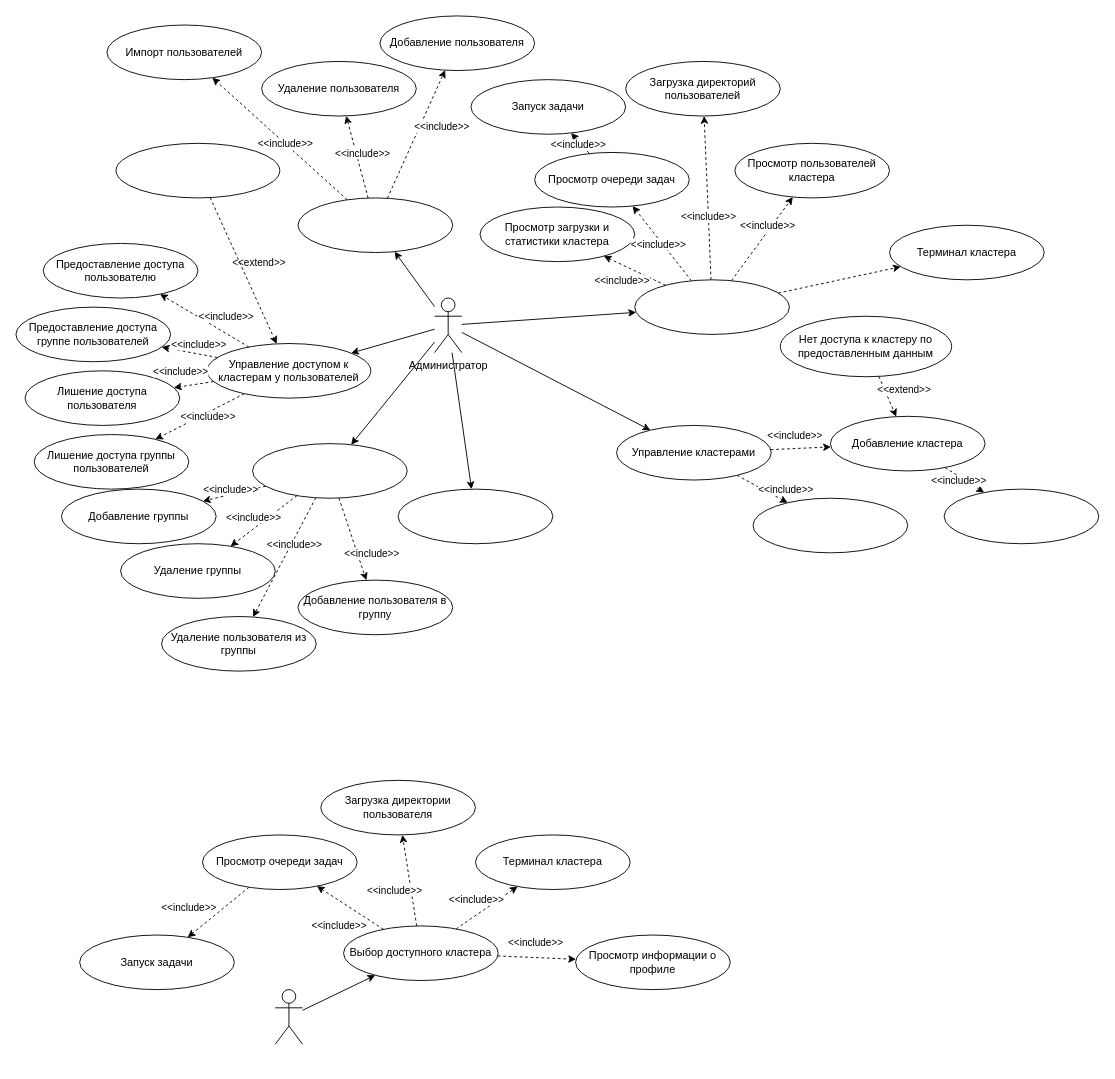
This 1115x1079 diagram has some shape labels left out. The shapes that lost their labels are listed below. From the top down, each one's centre as x and y in pixels, then its label:
pixel 197 170: Нет прав у профиля администратора на кластере
pixel 375 225: Управление пользователями платформы
pixel 711 306: Выбор добавленного кластера
pixel 329 470: Управление группами пользователей
pixel 475 516: Терминал сервера
pixel 830 525: Удаление кластера
pixel 1021 516: Выбор планировщика задач
pixel 288 1016: Пользователь
